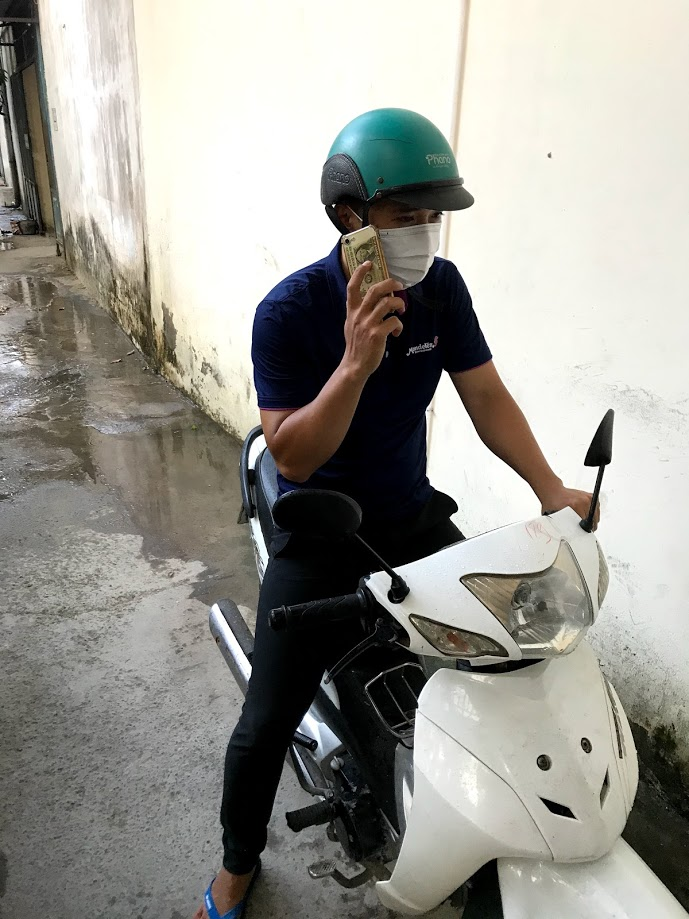dieu khien xe may: (250, 106, 638, 861)
su dung dien thoai: (319, 108, 475, 386)
